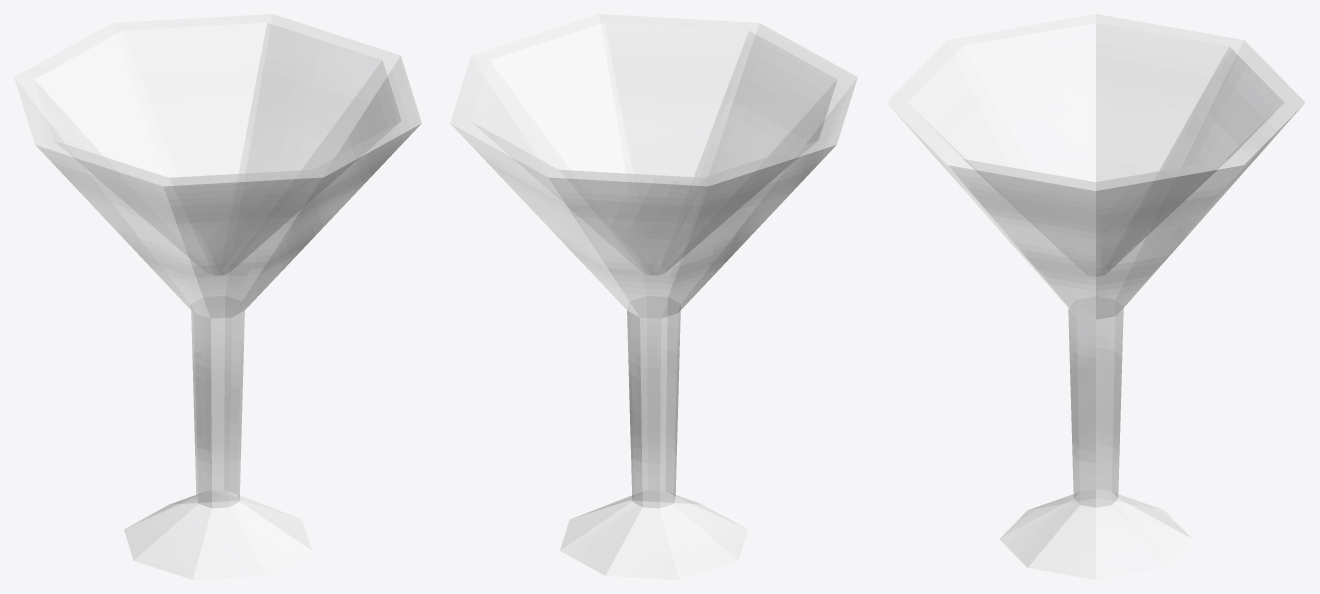
The model's file is cup5.glb.
The picture shows the model from 3 angles, left to right: view 1: azimuth 30°, elevation 25°; view 2: azimuth 150°, elevation 25°; view 3: azimuth 270°, elevation 25°; orthographic projection.
Parts seen in each view (by area): view 1: cup5; view 2: cup5; view 3: cup5.
Part boxes in pixels (box(x1,y1,x2,y2)): cup5: box(14, 14, 421, 579); cup5: box(450, 14, 857, 579); cup5: box(887, 14, 1304, 579).
Size of the model in its own units: 0.1276 by 0.1467 by 0.1276.
Materials: 1 (1 with a texture image).
